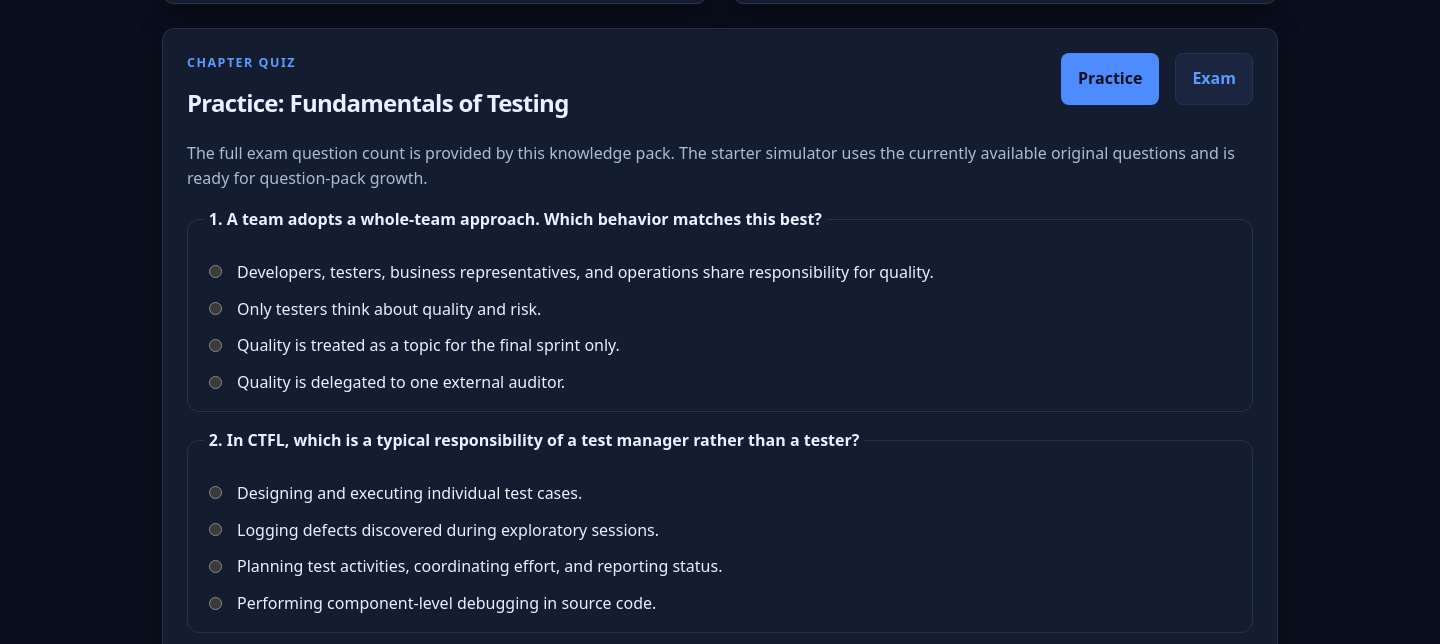
Test: App › quiz interaction › resets quiz without scrolling when selecting a chapter from study path
(page scrolled)
Click the 1st radio button: (216, 272) [209,265,222,278]
(page scrolled)
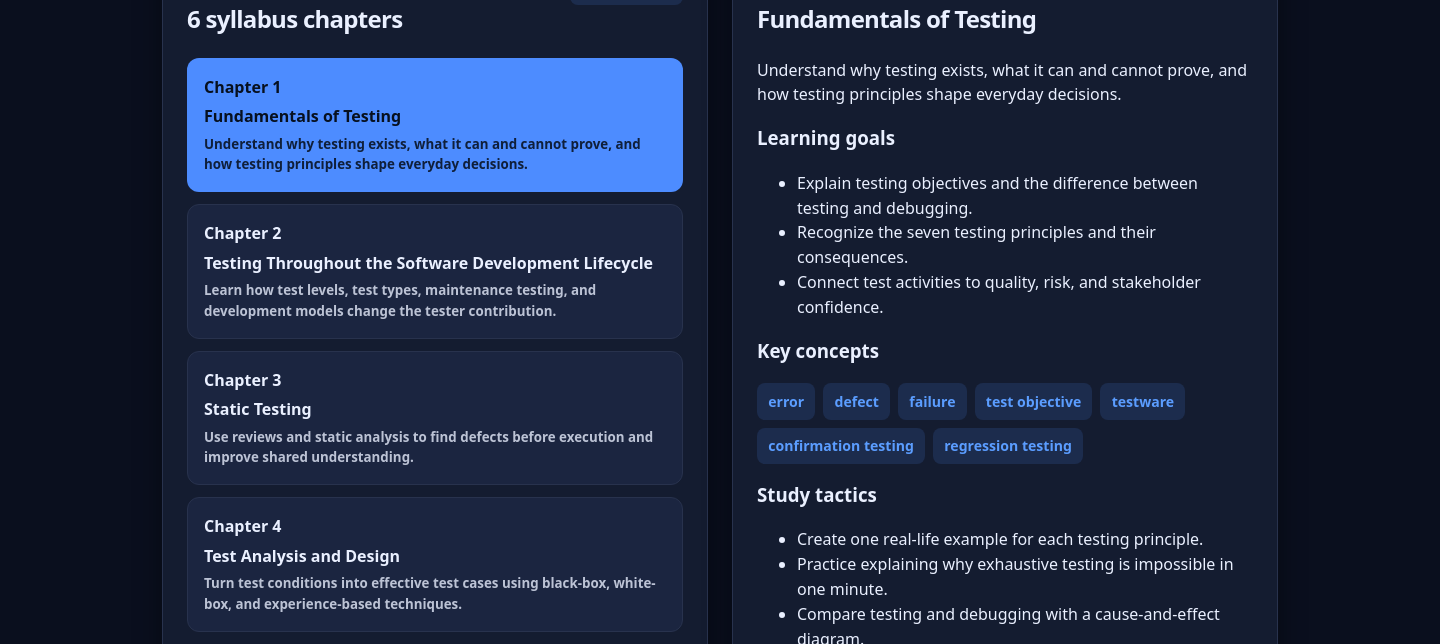
Click the button "Testing Throughout the Software Development Lifecycle": (435, 271) [187,204,683,338]
(page scrolled)
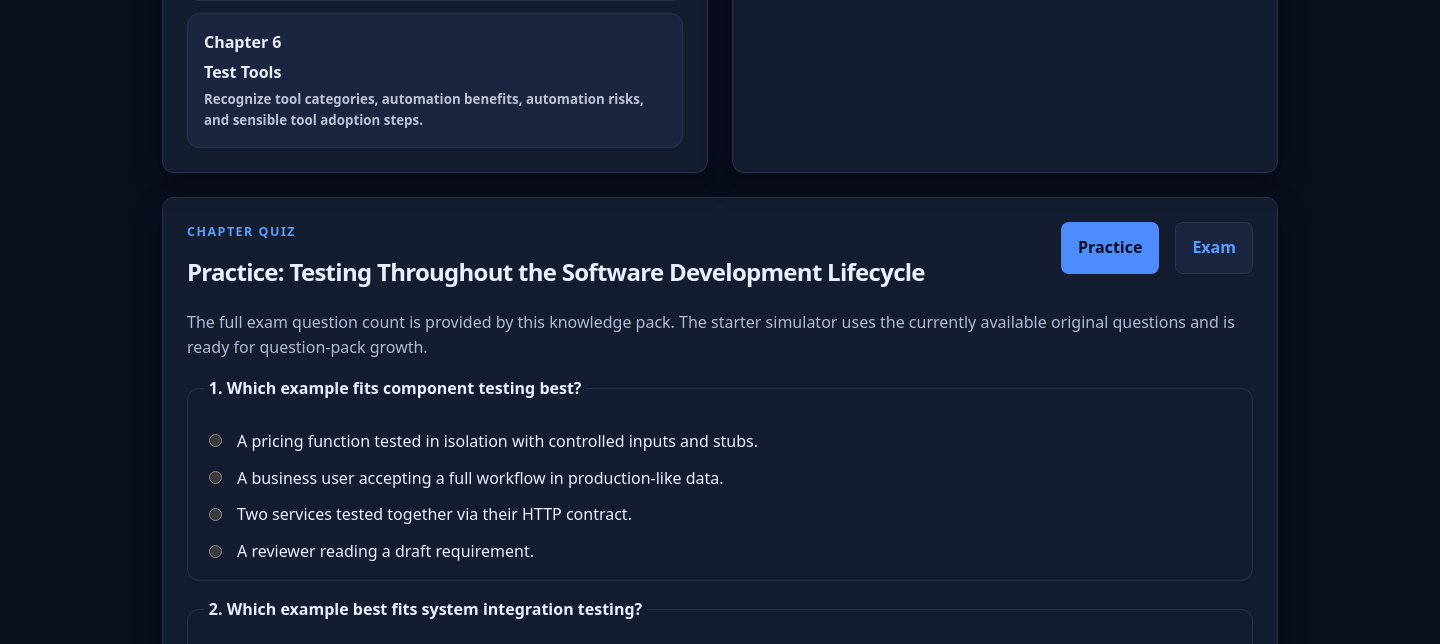
Expected: the heading "Practice: Testing Throughout the Software Development Lifecycle" is shown, [187,253,1029,290]
